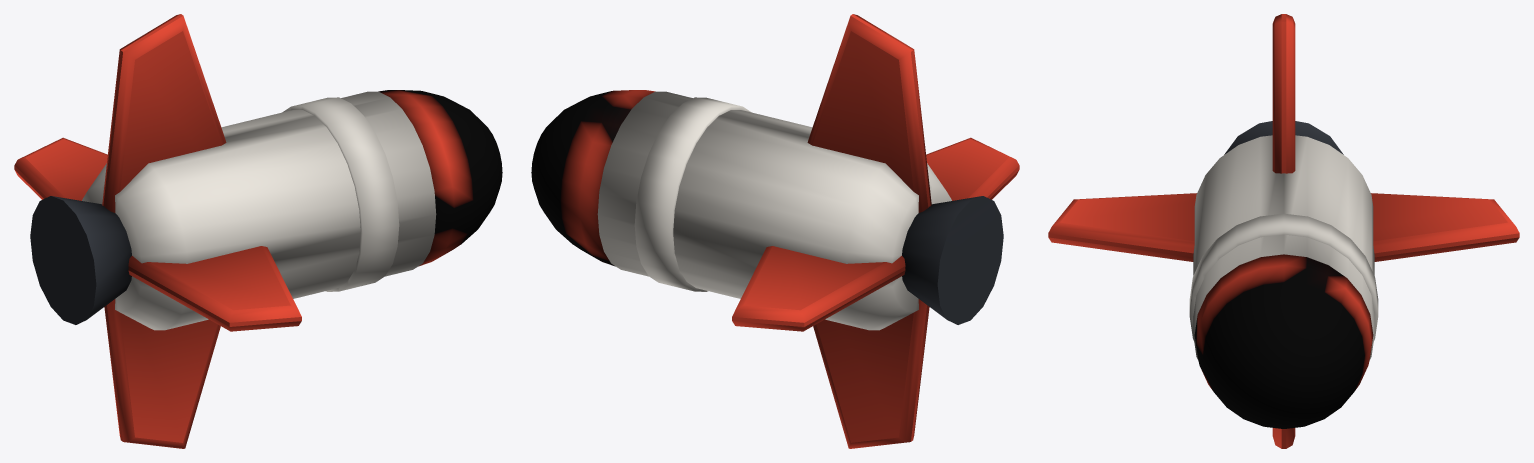
File: proj_player_missile.glb
3 views of the same model, side by side, from view 1: azimuth 30°, elevation 25°; view 2: azimuth 150°, elevation 25°; view 3: azimuth 270°, elevation 25° (orthographic).
Parts seen in each view (by area): view 1: player_missile_mesh; view 2: player_missile_mesh; view 3: player_missile_mesh.
Part boxes in pixels (<box>): player_missile_mesh: <box>14,14,502,448</box>; player_missile_mesh: <box>531,14,1019,448</box>; player_missile_mesh: <box>1048,14,1519,448</box>.
Size of the model in its own units: 0.9183 by 0.884 by 0.884.
